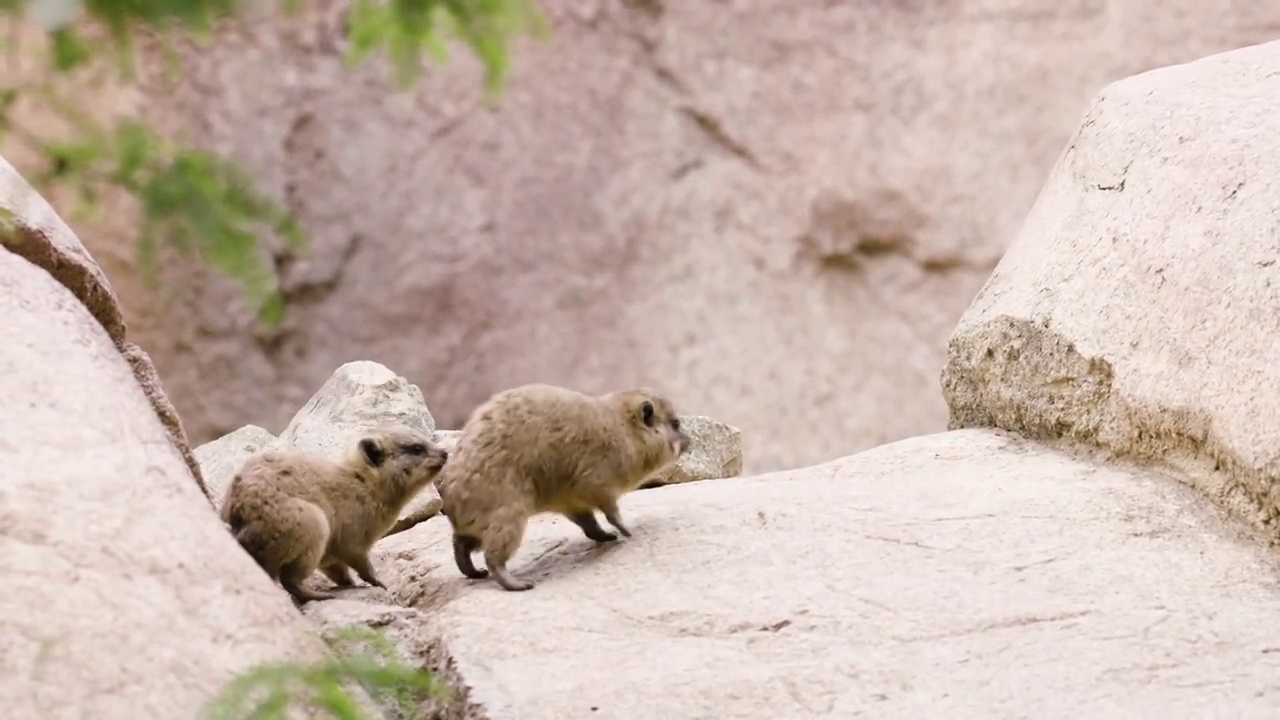Rock Hyrex: (435, 384, 695, 592), (203, 416, 446, 612)
